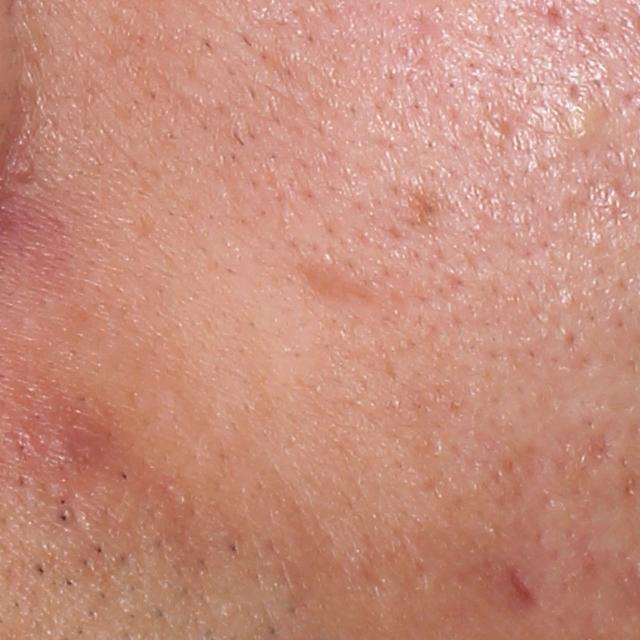atrophic_scar: (294, 261, 393, 316), (509, 563, 543, 609), (572, 430, 616, 464)
